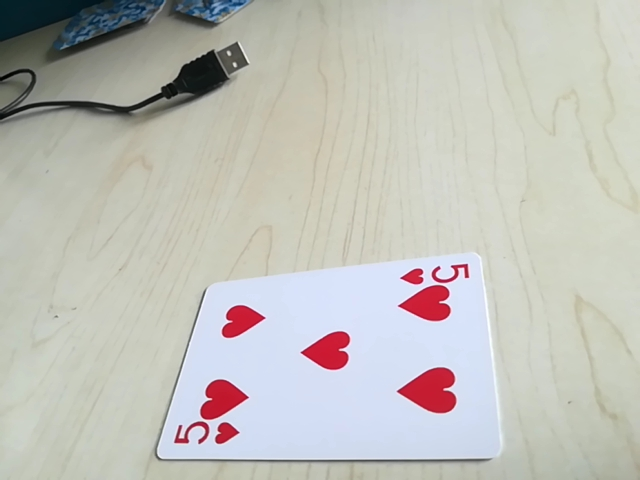hx 5: (169, 420, 240, 456), (398, 257, 474, 289)
